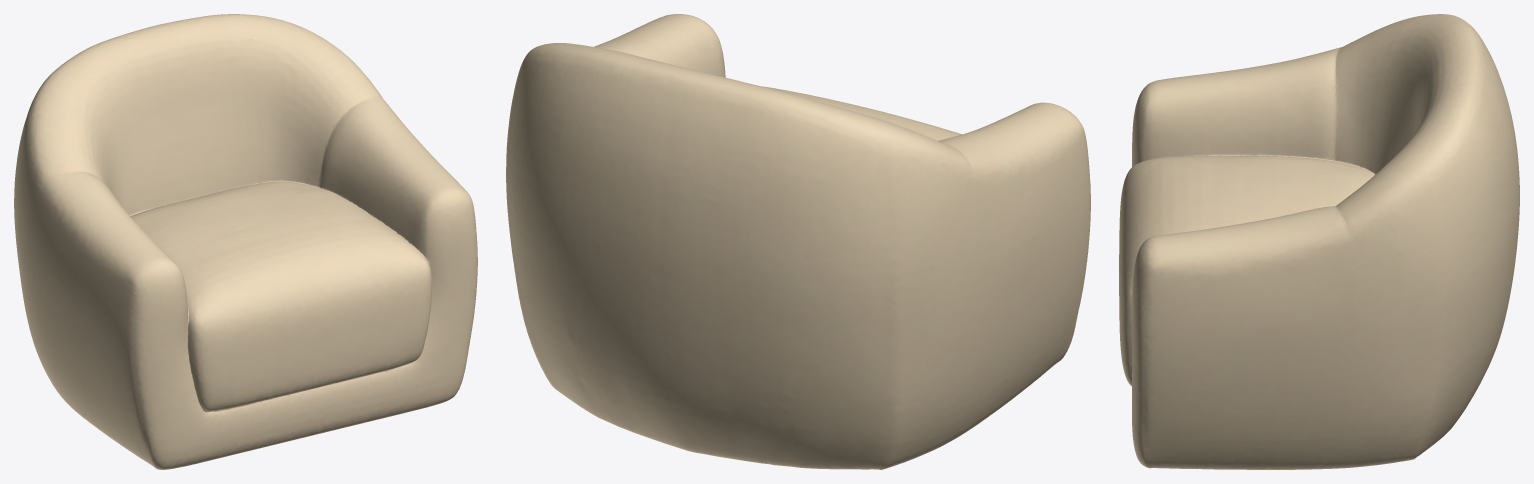
Rendered from lounge-chair-cream-boucle.glb.
The picture shows the model from 3 angles, left to right: view 1: azimuth 30°, elevation 25°; view 2: azimuth 150°, elevation 25°; view 3: azimuth 270°, elevation 25°; orthographic projection. The views are drawn at different scales.
Parts seen in each view (by area): view 1: world; view 2: world; view 3: world.
Boxes of the visible parts, x1,y1,x2,y2 form: world: [14, 14, 477, 469]; world: [506, 14, 1090, 469]; world: [1119, 14, 1519, 469].
Bounding box in the file's own units: 1 × 0.8088 × 0.8792.
Materials: 1 (1 with a texture image).
